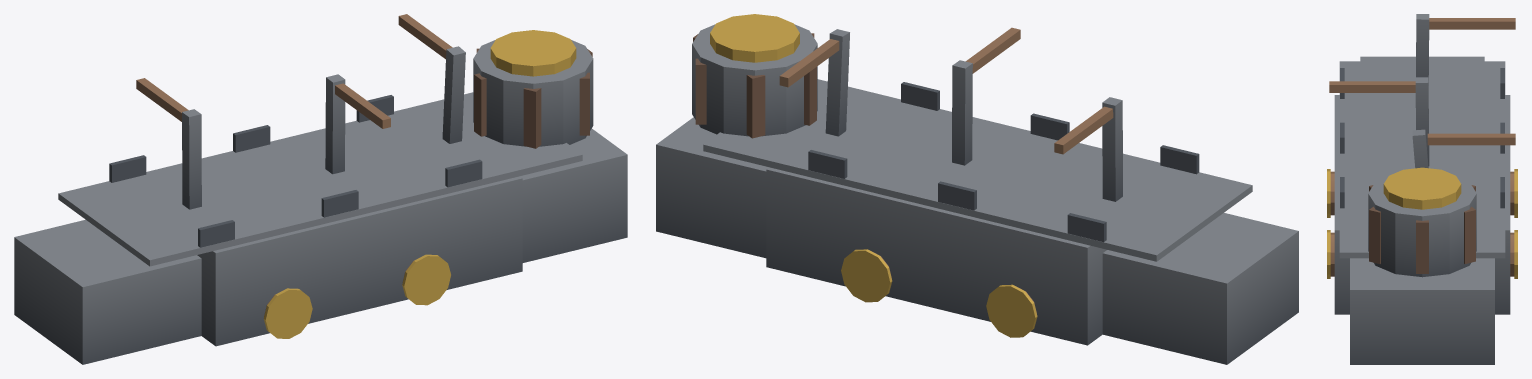
File: flagship.glb
3 views of the same model, side by side, from view 1: azimuth 30°, elevation 25°; view 2: azimuth 150°, elevation 25°; view 3: azimuth 270°, elevation 25° (orthographic). The views are drawn at different scales.
Parts seen in each view (by area): view 1: flagship; view 2: flagship; view 3: flagship.
Part boxes in pixels (x1=…): flagship: x1=14, y1=14, x2=627, y2=364; flagship: x1=656, y1=14, x2=1298, y2=364; flagship: x1=1327, y1=14, x2=1517, y2=364.
Bounding box in the file's own units: 21.85 × 7.66 × 7.38.
